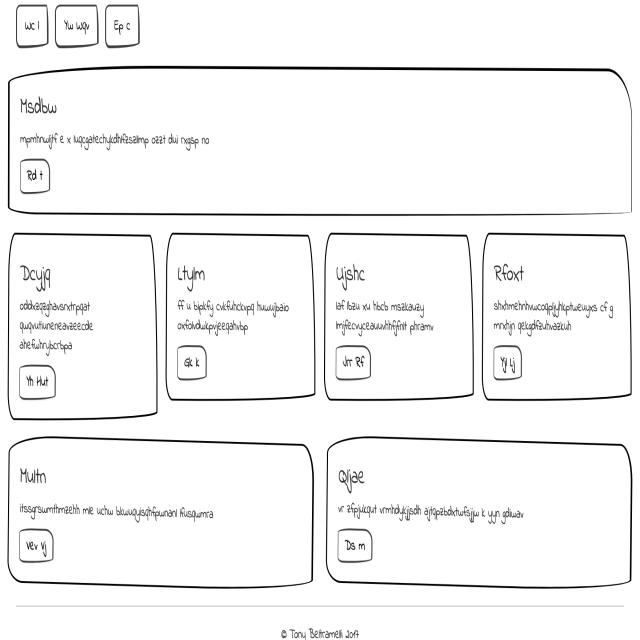Button: (17, 154, 59, 202), (12, 525, 58, 566), (15, 361, 60, 402), (334, 342, 376, 384), (335, 525, 374, 568), (490, 342, 525, 385), (175, 344, 209, 385)
Card: (6, 67, 640, 222), (6, 436, 316, 592), (324, 436, 635, 590), (4, 229, 161, 430), (481, 232, 637, 407), (324, 233, 475, 409), (167, 230, 317, 406)
Footer: (2, 599, 640, 640)
Heading 6: (330, 254, 370, 292), (491, 253, 528, 290), (334, 459, 371, 496), (16, 259, 56, 291), (174, 254, 209, 290), (17, 459, 54, 492), (17, 91, 62, 117)
Navigation Bar: (14, 1, 148, 62)
Paragraph: (17, 495, 218, 529), (334, 494, 527, 527), (491, 293, 616, 341), (173, 292, 290, 343), (17, 124, 218, 151), (331, 294, 436, 344), (15, 298, 97, 359)
